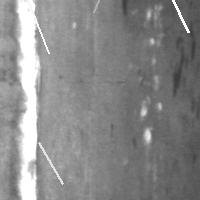scratches: (11, 1, 42, 199), (139, 7, 164, 143), (170, 16, 199, 109), (8, 0, 54, 58), (34, 138, 68, 189), (155, 0, 193, 37), (89, 0, 114, 17)
